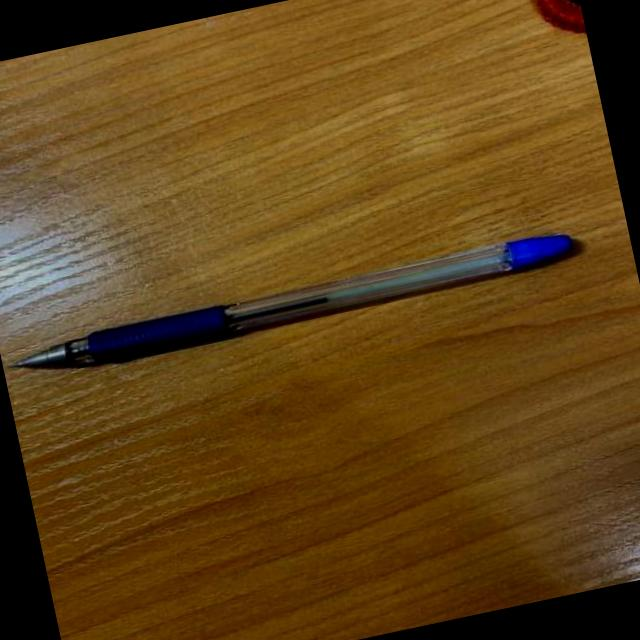Pen - Non Recyclable: (4, 228, 582, 380)
